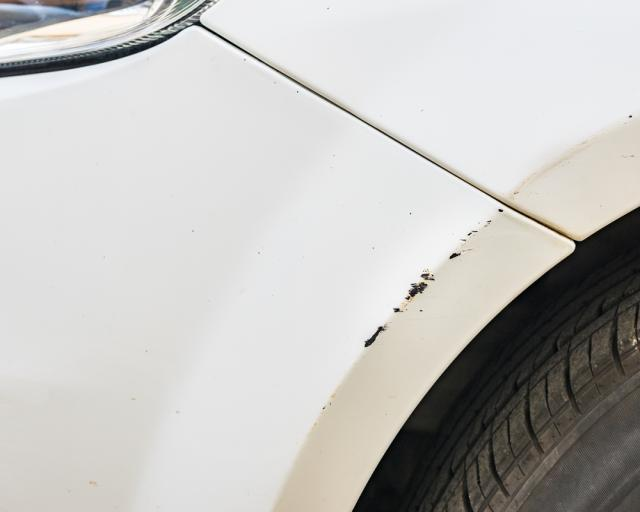scratch: (354, 210, 495, 351)
